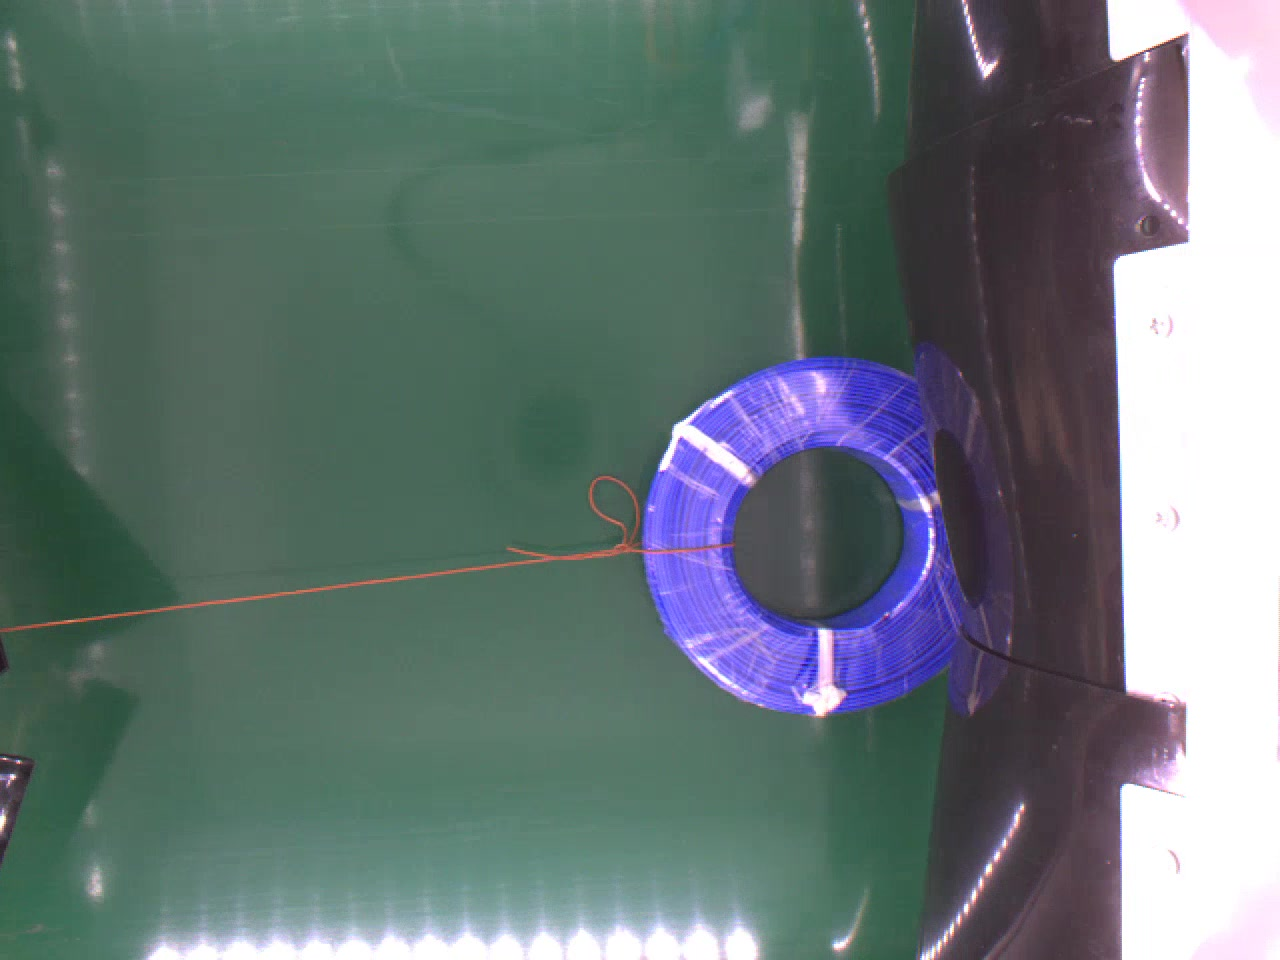blue: (639, 357, 954, 709)
